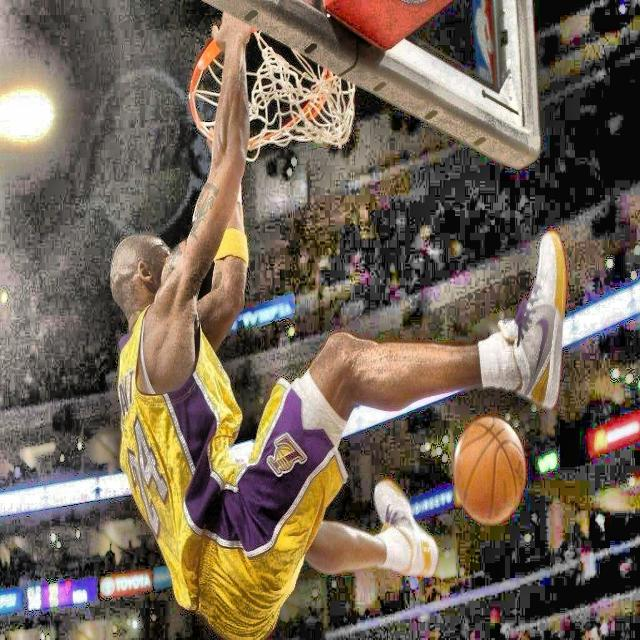board: (454, 415, 527, 525)
